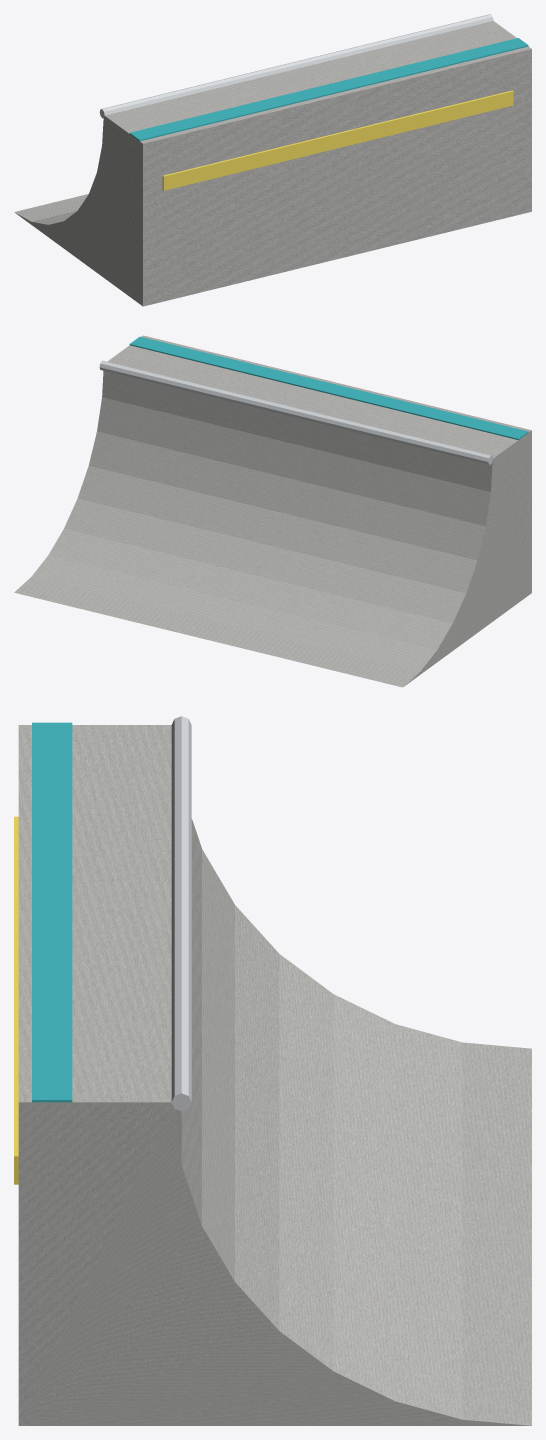
File: skate-park-and-street-sports-quarter-pipe-ramp-66ccade4__33512.glb
3 renders of one model, top to bottom at view 1: azimuth 30°, elevation 25°; view 2: azimuth 150°, elevation 25°; view 3: azimuth 270°, elevation 25°, orthographic. The views are drawn at different scales.
Parts seen in each view (by area): view 1: quarter-pipe-ramp-concrete, quarter-pipe-ramp-canary, quarter-pipe-ramp-teal, quarter-pipe-ramp-steel; view 2: quarter-pipe-ramp-concrete, quarter-pipe-ramp-teal, quarter-pipe-ramp-steel; view 3: quarter-pipe-ramp-concrete, quarter-pipe-ramp-teal, quarter-pipe-ramp-steel, quarter-pipe-ramp-canary.
Boxes of the visible parts, x1=… form: quarter-pipe-ramp-concrete: x1=14, y1=21, x2=531, y2=306; quarter-pipe-ramp-canary: x1=162, y1=90, x2=513, y2=190; quarter-pipe-ramp-teal: x1=129, y1=38, x2=528, y2=141; quarter-pipe-ramp-steel: x1=99, y1=14, x2=493, y2=118; quarter-pipe-ramp-concrete: x1=14, y1=335, x2=531, y2=687; quarter-pipe-ramp-teal: x1=129, y1=336, x2=528, y2=439; quarter-pipe-ramp-steel: x1=99, y1=360, x2=493, y2=464; quarter-pipe-ramp-concrete: x1=18, y1=725, x2=531, y2=1425; quarter-pipe-ramp-teal: x1=32, y1=722, x2=72, y2=1102; quarter-pipe-ramp-steel: x1=171, y1=716, x2=191, y2=1111; quarter-pipe-ramp-canary: x1=14, y1=816, x2=18, y2=1184.
Size of the model in its own units: 4 by 1.64 by 2.32.
Materials: 4 (1 with a texture image).
